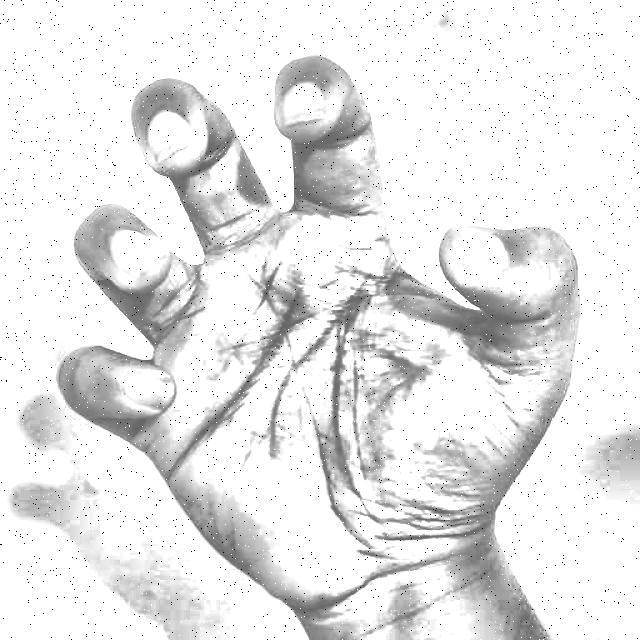Ja: (34, 21, 600, 629)
